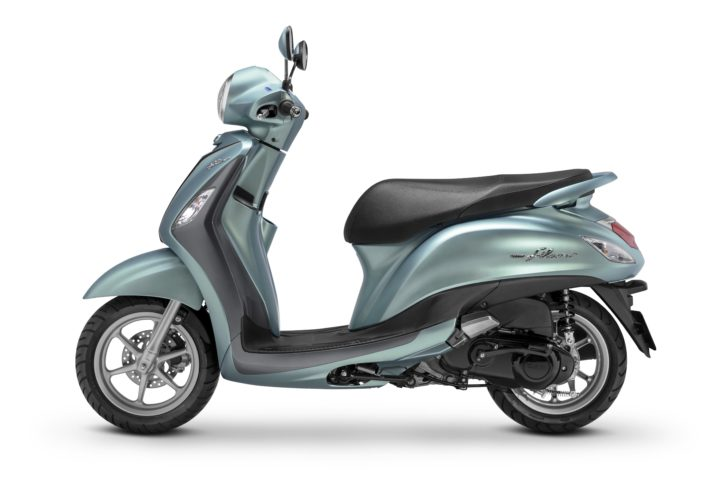motorcycle: (73, 25, 656, 435)
